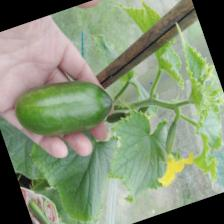cucumber: (7, 63, 119, 152)
